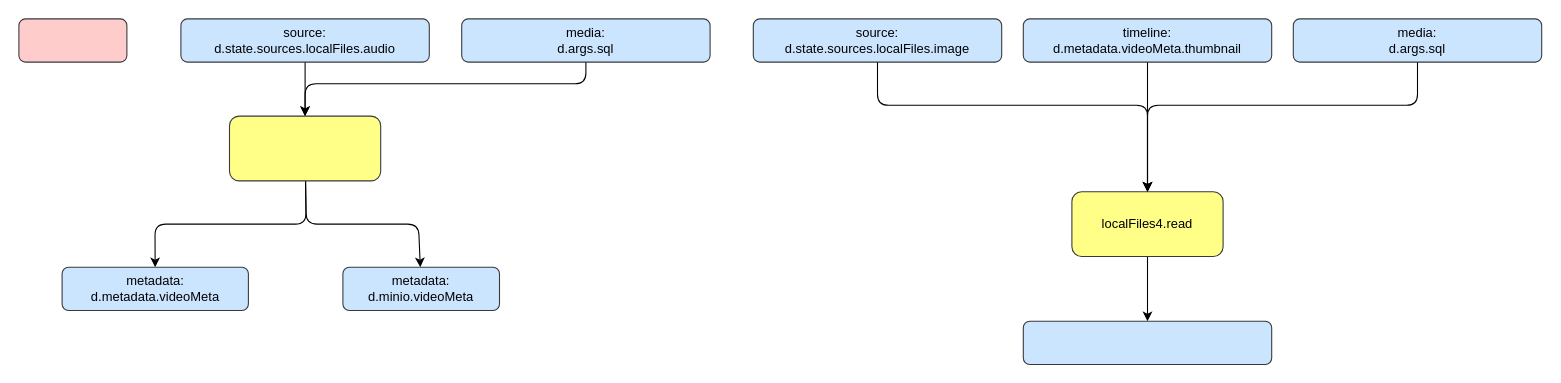
Some shapes in this 1561 by 383 pixel diagram are drawn without their labels. Here are the shapes that lost their labels. From the top down, the centre of each, then its label:
the point at 72,40: type:flux
the point at 304,148: localFiles1.metavideo
the point at 1147,342: bytes: b.localFiles.videoThumbnail
